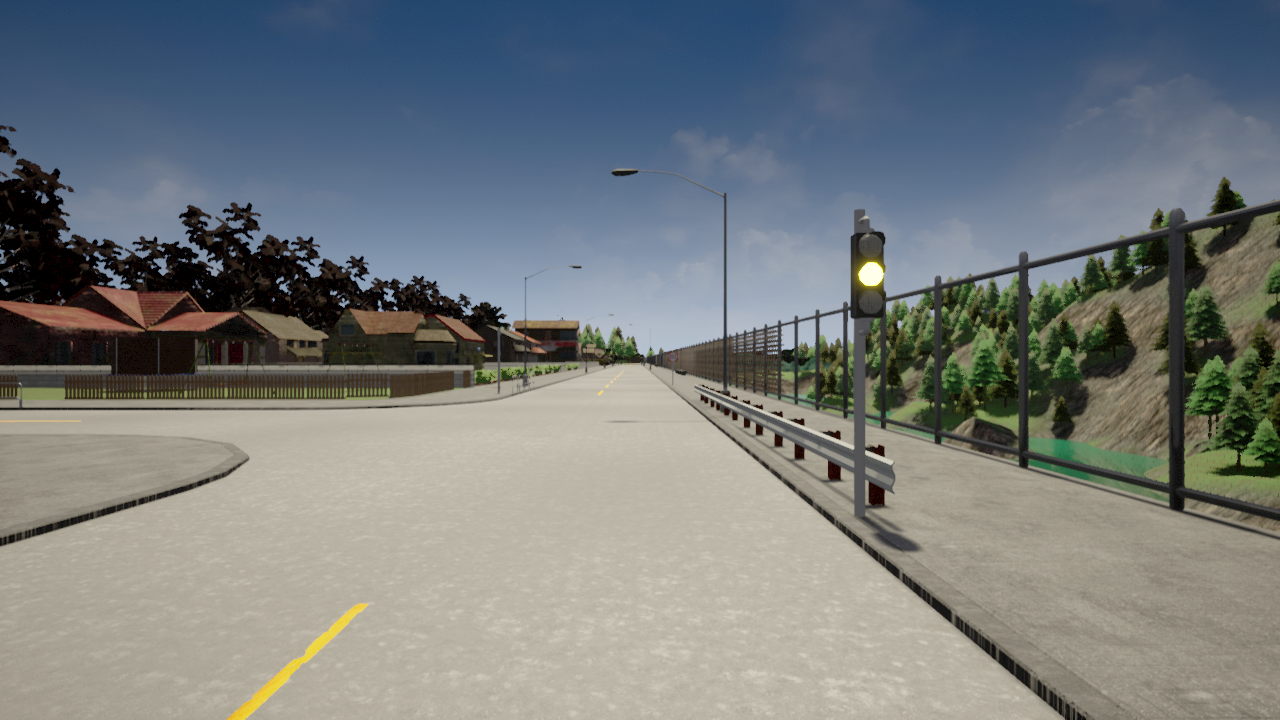yellow: (850, 229, 888, 317)
